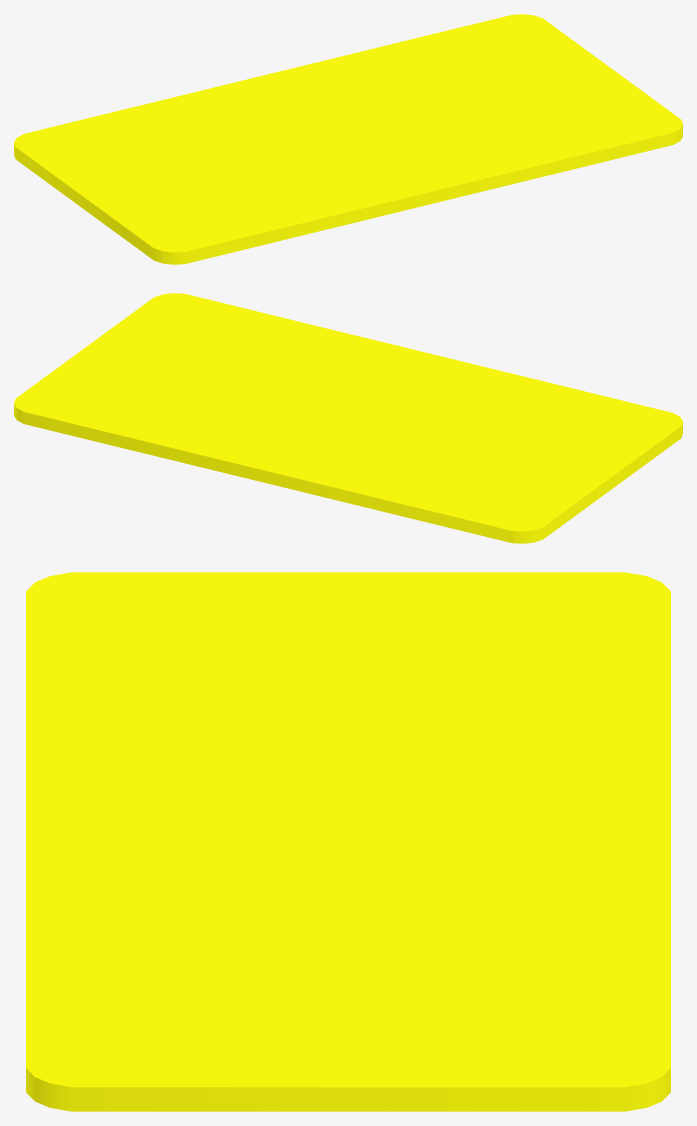
File: SM_Carpet01.glb
The picture shows the model from 3 angles, top to bottom: view 1: azimuth 30°, elevation 25°; view 2: azimuth 150°, elevation 25°; view 3: azimuth 270°, elevation 25°; orthographic projection. The views are drawn at different scales.
Parts seen in each view (by area): view 1: SM_Carpet01; view 2: SM_Carpet01; view 3: SM_Carpet01.
Boxes of the visible parts, bbox=[...] form: SM_Carpet01: bbox=[14, 14, 682, 264]; SM_Carpet01: bbox=[14, 293, 682, 543]; SM_Carpet01: bbox=[26, 572, 670, 1111].
Bounding box in the file's own units: 1.7 × 0.0376 × 0.9.
1 material, 1 textured.
